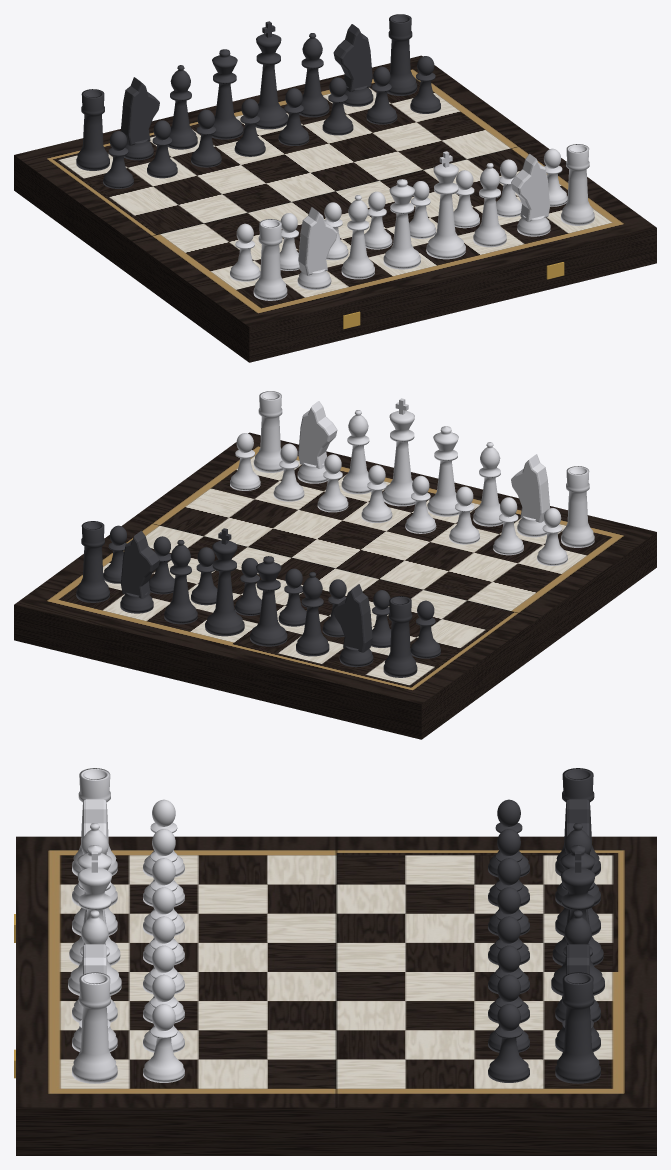
The model's file is philidor-3d-ebene-pliable-39.glb.
3 renders of one model, top to bottom at view 1: azimuth 30°, elevation 25°; view 2: azimuth 150°, elevation 25°; view 3: azimuth 270°, elevation 25°, orthographic. The views are drawn at different scales.
Parts seen in each view (by area): view 1: ebene-pliable-39; view 2: ebene-pliable-39; view 3: ebene-pliable-39.
Part boxes in pixels (x1=…): ebene-pliable-39: x1=14, y1=14, x2=656, y2=362; ebene-pliable-39: x1=14, y1=391, x2=656, y2=739; ebene-pliable-39: x1=14, y1=768, x2=656, y2=1155.
Size of what is drawn, in the model's own units: 0.39 by 0.1225 by 0.3912.
5 materials, 2 textured.
